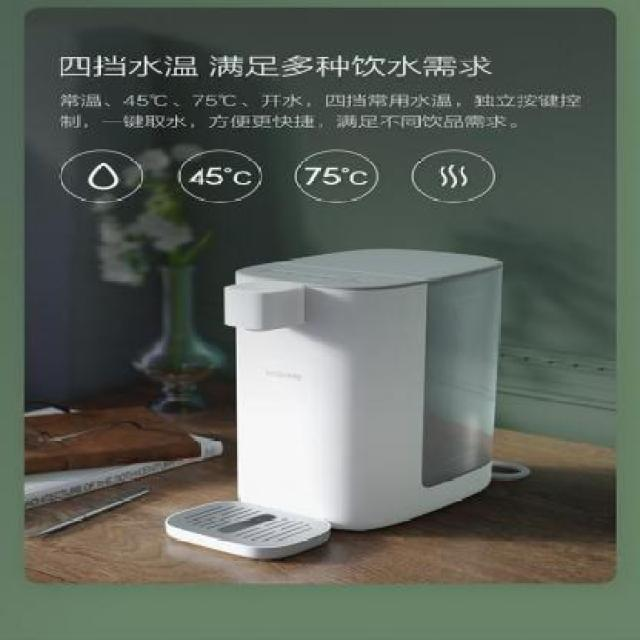cooler: (167, 238, 516, 561)
